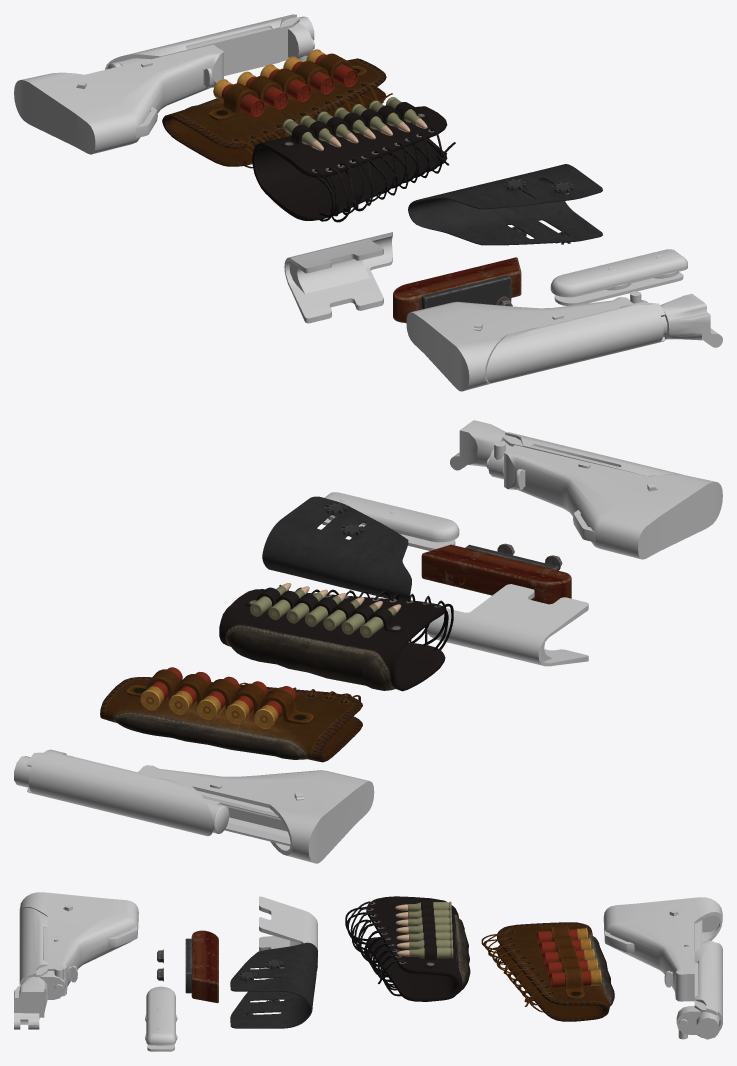
Rendered from Parts.FBX.
3 views of the same model, one above another, from view 1: azimuth 30°, elevation 25°; view 2: azimuth 150°, elevation 25°; view 3: azimuth 270°, elevation 25° (orthographic). The views are drawn at different scales.
Parts seen in each view (by area): view 1: ButtStock_setting_01, Vector_Stock_Setting, Sniper_BulletLoops_M24_01, Shotgun_BulletLoops_686_01, Sniper_CheekPad_M24_01, SKS_CheePad_Setting, Sniper_CheekPad_Vss_setting, Sniper_CheekPad_AWM__setting; view 2: ButtStock_setting_01, Vector_Stock_Setting, Sniper_BulletLoops_M24_01, Shotgun_BulletLoops_686_01, Sniper_CheekPad_M24_01, SKS_CheePad_Setting, Sniper_CheekPad_Vss_setting, Sniper_CheekPad_AWM__setting; view 3: ButtStock_setting_01, Vector_Stock_Setting, Sniper_BulletLoops_M24_01, Shotgun_BulletLoops_686_01, Sniper_CheekPad_M24_01, Sniper_CheekPad_Vss_setting, SKS_CheePad_Setting, Sniper_CheekPad_AWM__setting.
Boxes of the visible parts, bbox=[...] form: ButtStock_setting_01: bbox=[14, 14, 314, 154]; Vector_Stock_Setting: bbox=[406, 291, 722, 391]; Sniper_BulletLoops_M24_01: bbox=[252, 97, 455, 222]; Shotgun_BulletLoops_686_01: bbox=[162, 49, 392, 168]; Sniper_CheekPad_M24_01: bbox=[408, 164, 602, 245]; SKS_CheePad_Setting: bbox=[284, 232, 392, 323]; Sniper_CheekPad_Vss_setting: bbox=[393, 257, 521, 322]; Sniper_CheekPad_AWM__setting: bbox=[550, 249, 687, 305]; ButtStock_setting_01: bbox=[14, 749, 374, 863]; Vector_Stock_Setting: bbox=[450, 420, 722, 559]; Sniper_BulletLoops_M24_01: bbox=[219, 583, 453, 691]; Shotgun_BulletLoops_686_01: bbox=[100, 667, 362, 762]; Sniper_CheekPad_M24_01: bbox=[262, 496, 411, 600]; SKS_CheePad_Setting: bbox=[427, 584, 588, 666]; Sniper_CheekPad_Vss_setting: bbox=[421, 543, 571, 604]; Sniper_CheekPad_AWM__setting: bbox=[322, 492, 459, 550]; ButtStock_setting_01: bbox=[603, 897, 722, 1039]; Vector_Stock_Setting: bbox=[14, 892, 138, 1029]; Sniper_BulletLoops_M24_01: bbox=[345, 896, 470, 1001]; Shotgun_BulletLoops_686_01: bbox=[481, 922, 614, 1021]; Sniper_CheekPad_M24_01: bbox=[230, 942, 317, 1028]; Sniper_CheekPad_Vss_setting: bbox=[157, 930, 218, 1003]; SKS_CheePad_Setting: bbox=[259, 896, 317, 970]; Sniper_CheekPad_AWM__setting: bbox=[145, 986, 177, 1051].
Size of the model in its own units: 34 by 9.78 by 77.37.
